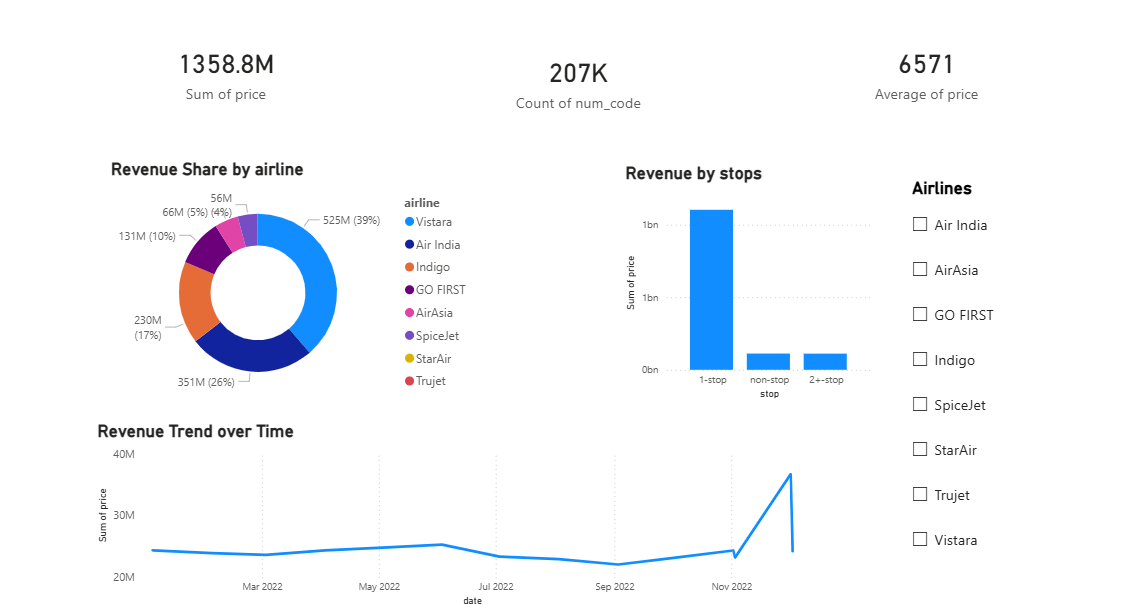

This screenshot's page, from the dashboard's own definition file:
{"tool":"powerbi","page":{"name":"Page 2","canvas":[1280,720],"ordinal":0},"visuals":[{"type":"card","title":"Total Revenue","fields":{"Values":["Sum(economy.price)"]},"box":[113.4,17,294.8,187.1],"z":0},{"type":"card","title":"Total Flights","fields":{"Values":["CountNonNull(economy.num_code)"]},"box":[505.5,17,294.8,207.9],"z":1000},{"type":"card","title":"AVG Ticket Price","fields":{"Values":["Avg(economy.price)"]},"box":[897.6,17,281.6,187.1],"z":2000},{"type":"donutChart","title":"Revenue Share by airline","fields":{"Category":["economy.airline"],"Y":["Sum(economy.price)"]},"box":[128.5,218.7,413.9,275.9],"z":3000},{"type":"clusteredColumnChart","title":"Revenue by stops","fields":{"Category":["economy.stop"],"Y":["Sum(economy.price)"]},"box":[699.2,223.5,283.5,266.5],"z":4000},{"type":"lineChart","title":"Revenue Trend over Time ","fields":{"Y":["Sum(economy.price)"],"Category":["economy.date"]},"box":[113.4,510.2,805,209.8],"z":5000},{"type":"listSlicer","title":"Airlines","fields":{"Values":["economy.airline"]},"box":[1018.6,240,260.8,434.6],"z":6000}]}

Visuals, with their boxes on the page's 1280x720 design canvas (x1, y1, x2, y2). These are canvas units, not pixel positions in the 1125x605 screenshot, which may show the page scaled, cropped or inside an application window:
"Total Revenue" card: (113, 17, 408, 204)
"Total Flights" card: (506, 17, 800, 225)
"AVG Ticket Price" card: (898, 17, 1179, 204)
"Revenue Share by airline" donutChart: (128, 219, 542, 495)
"Revenue by stops" clusteredColumnChart: (699, 224, 983, 490)
"Revenue Trend over Time " lineChart: (113, 510, 918, 720)
"Airlines" listSlicer: (1019, 240, 1279, 675)
